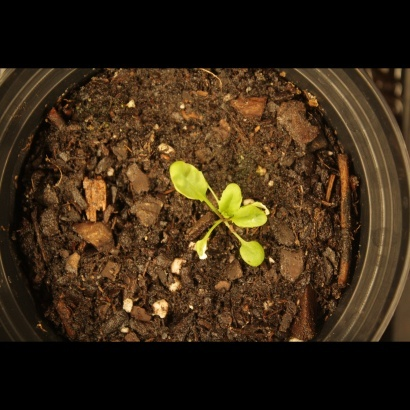leaf: (169, 153, 210, 206), (236, 233, 272, 273), (217, 176, 246, 222), (232, 205, 270, 231), (187, 234, 215, 264)
